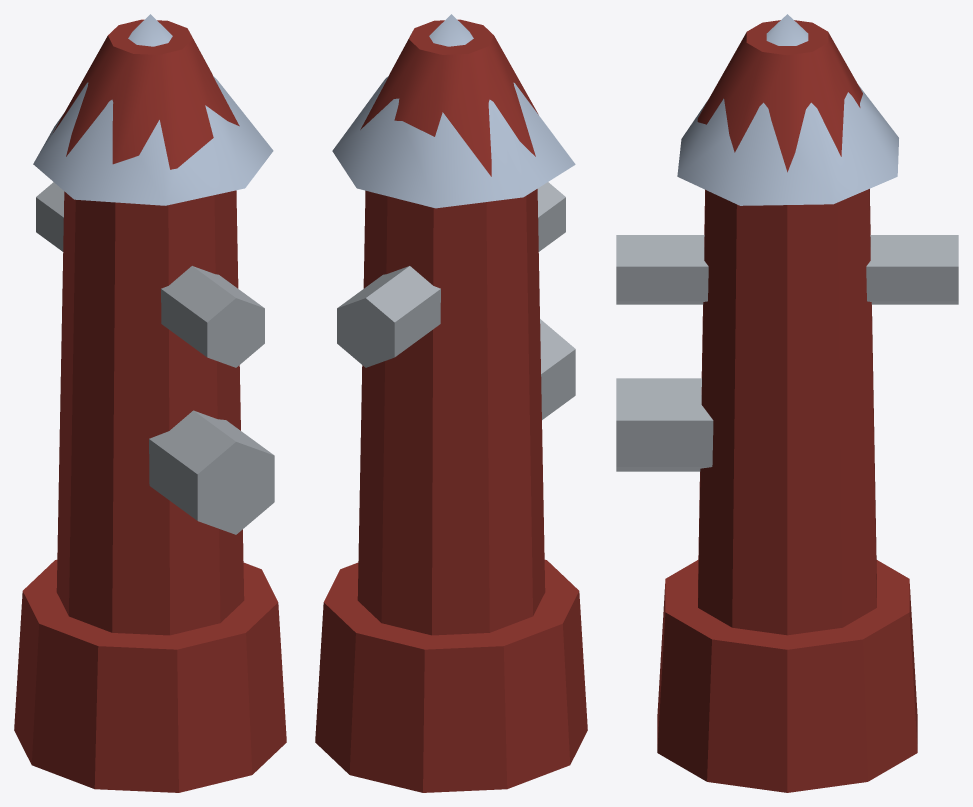
The model's file is hydrant.glb.
3 renders of one model, left to right at view 1: azimuth 30°, elevation 25°; view 2: azimuth 150°, elevation 25°; view 3: azimuth 270°, elevation 25°, orthographic.
Visible parts, largest first — view 1: Prop; view 2: Prop; view 3: Prop.
Boxes of the visible parts, box(x1,y1,x2,y2) form: Prop: box(14, 14, 286, 792); Prop: box(315, 14, 587, 792); Prop: box(616, 14, 958, 792).
Size of the model in its own units: 0.32 by 0.93 by 0.4.
